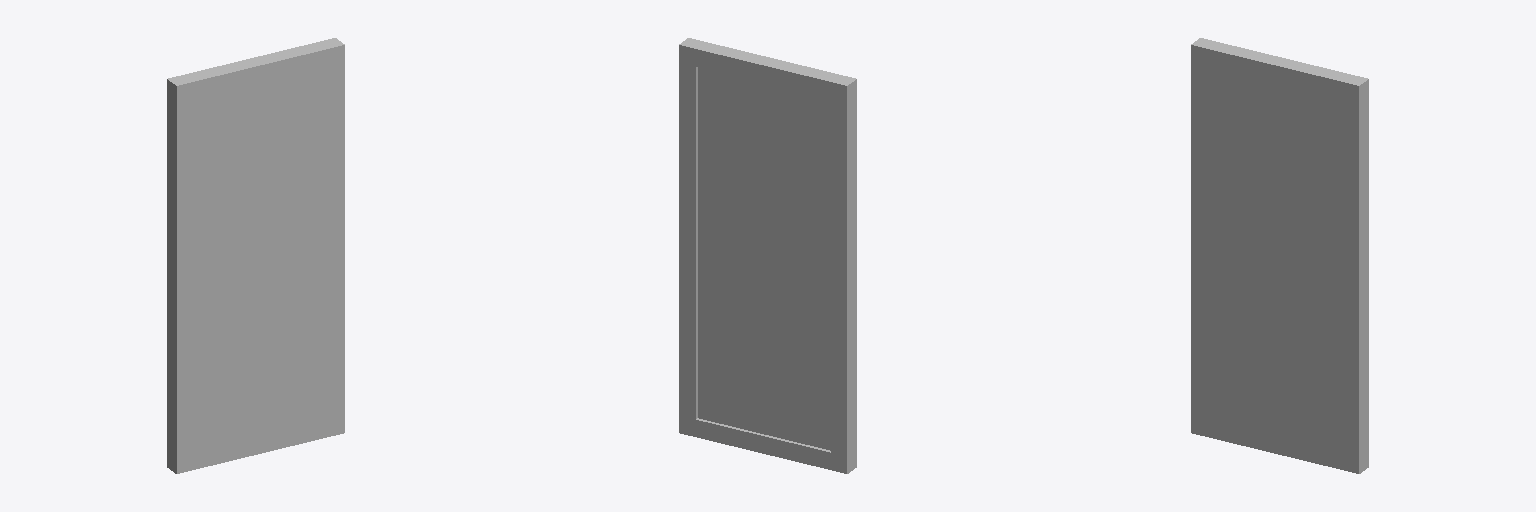
File: Деталь1.6.obj
3 renders of one model, left to right at view 1: azimuth 30°, elevation 25°; view 2: azimuth 150°, elevation 25°; view 3: azimuth 330°, elevation 25°, orthographic.
Visible parts, largest first — view 1: Твердое тело1; view 2: Твердое тело1; view 3: Твердое тело1.
Boxes of the visible parts, x1=… form: Твердое тело1: x1=167, y1=38, x2=344, y2=473; Твердое тело1: x1=679, y1=38, x2=856, y2=473; Твердое тело1: x1=1191, y1=38, x2=1368, y2=473.
Bounding box in the file's own units: 5 × 11 × 0.5.